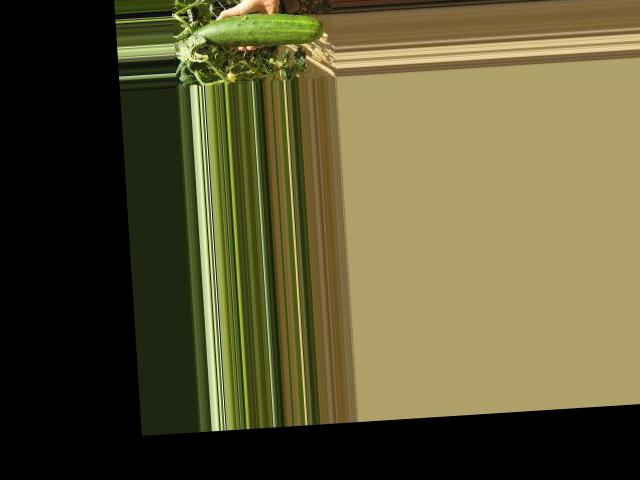cucumber: (190, 10, 324, 51)
